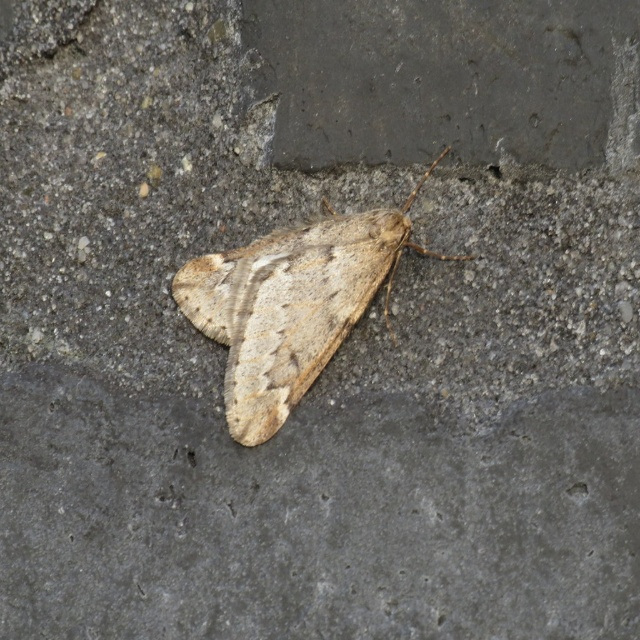Moths and butterflies: (171, 141, 475, 449)
